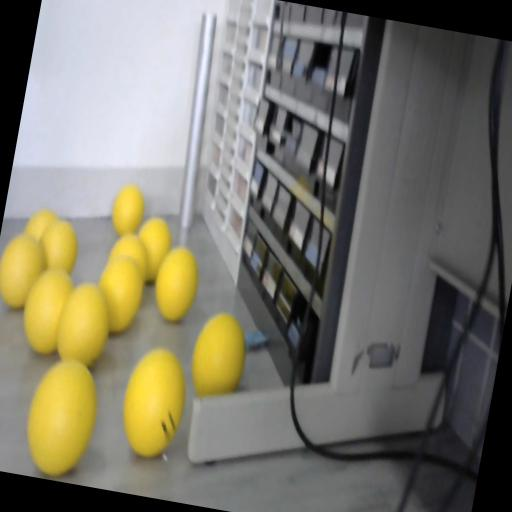FUEL: (18, 351, 106, 479), (114, 342, 194, 460), (184, 308, 252, 402), (16, 264, 78, 358), (90, 252, 148, 336), (148, 242, 204, 324), (0, 229, 50, 313), (130, 214, 176, 284), (108, 181, 148, 238), (23, 205, 59, 245), (288, 172, 312, 205), (278, 271, 298, 300)
